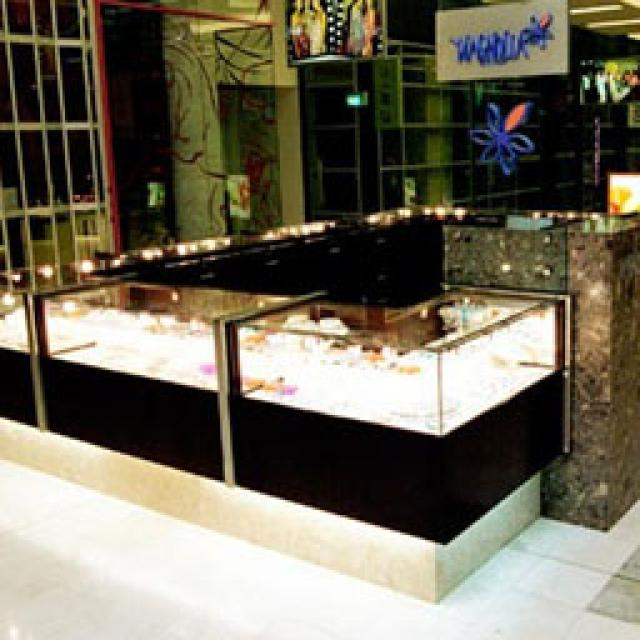ceiling beam: (475, 0, 635, 52)
counter bottom: (442, 202, 638, 528)
floor -X: (0, 448, 638, 638)
shelves crop: (295, 52, 635, 215)
showcase occluded: (0, 198, 502, 468), (228, 278, 568, 600), (32, 275, 315, 528)
text: (435, 0, 565, 78)
wall clock: (2, 0, 635, 335)
